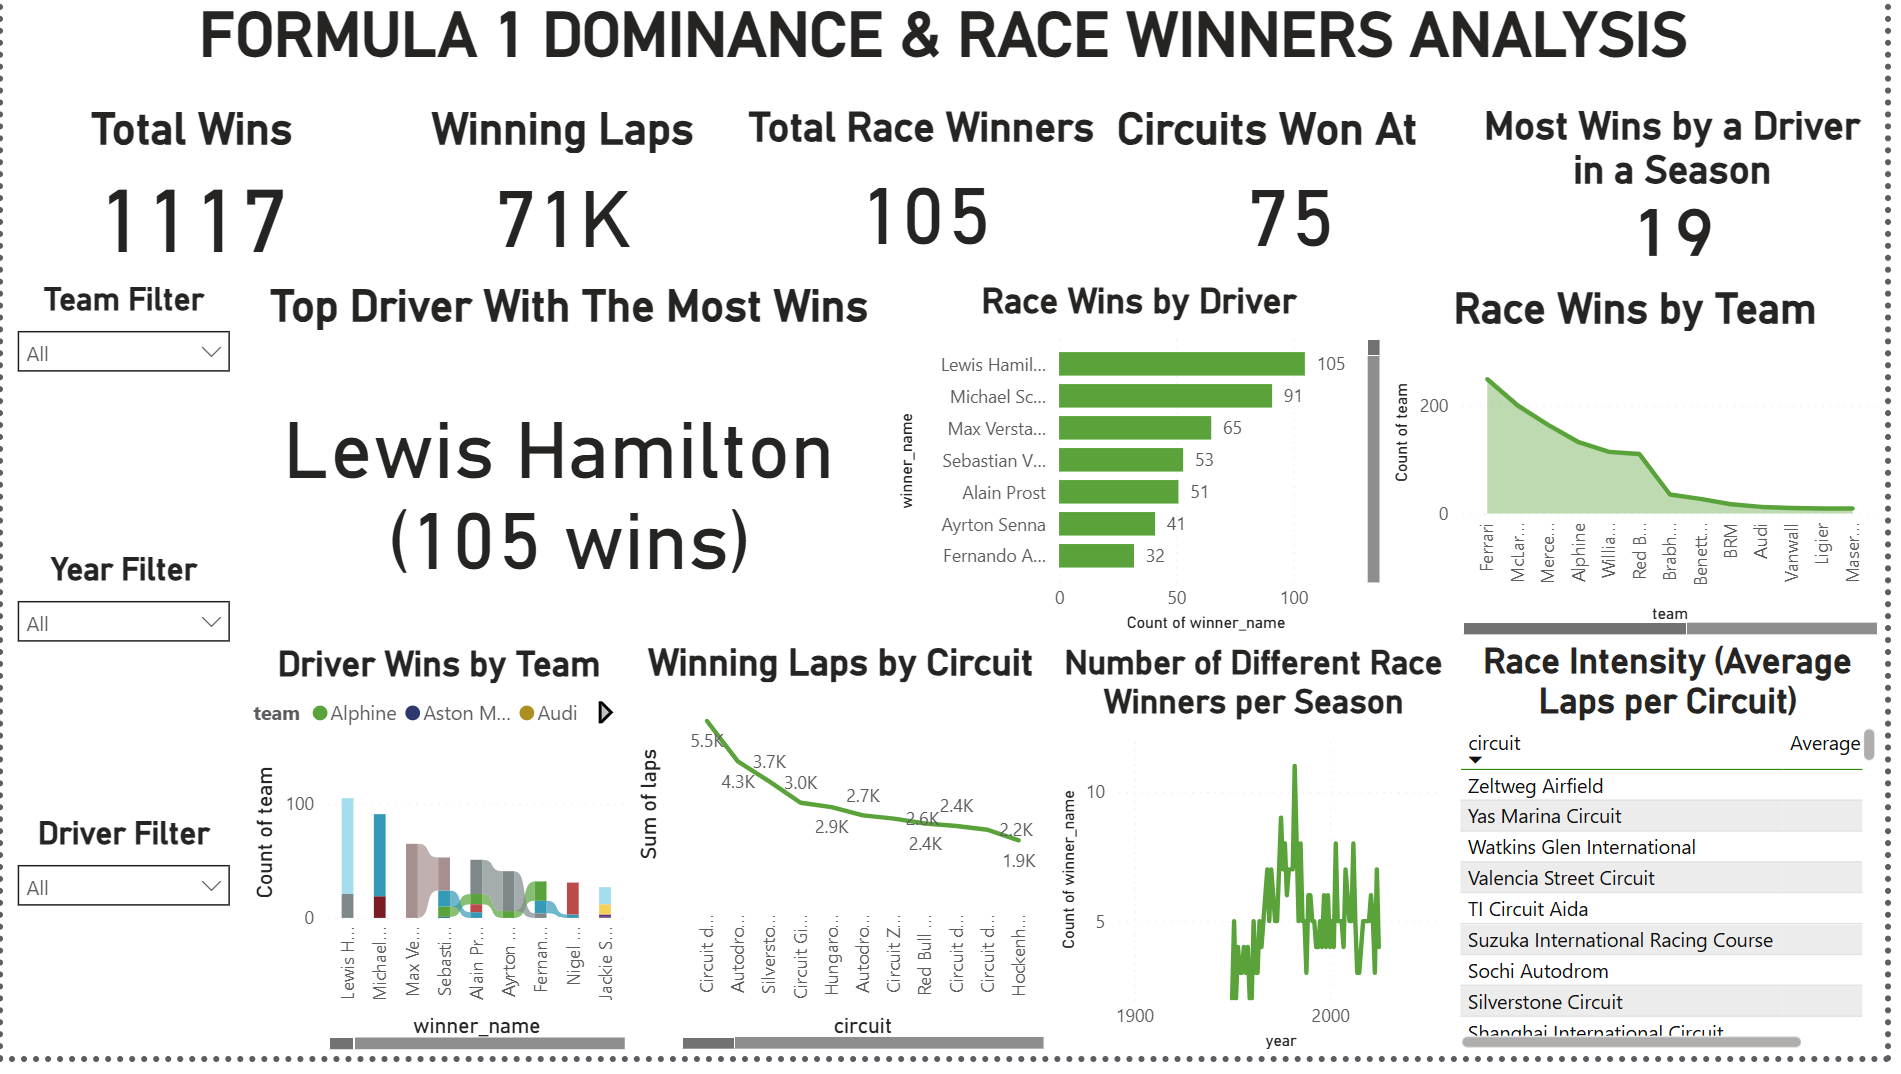

This screenshot's page, from the dashboard's own definition file:
{"tool":"powerbi","page":{"name":"Page 1","canvas":[1280,720],"ordinal":0},"visuals":[{"type":"card","title":"Total Wins","fields":{"Values":["F1 Race Winners & Circuit Analysis (1950_2025).TOTAL RACES"]},"box":[0,70.5,256.9,109.7],"z":0},{"type":"card","title":"Winning Laps","fields":{"Values":["winners_f1_1950_2025_v2.TOTAL LAPS"]},"box":[258.5,70.5,242.8,109.7],"z":1000},{"type":"card","title":"Total Race Winners","fields":{"Values":["winners_f1_1950_2025_v2.UNIQUE WINNERS"]},"box":[501.1,71.8,251.2,109],"z":2000},{"type":"card","title":"Circuits Won At","fields":{"Values":["winners_f1_1950_2025_v2.UNIQUE CIRCUITS"]},"box":[752.3,71.8,245.9,109],"z":3000},{"type":"card","title":"Top Driver With The Most Wins","fields":{"Values":["winners_f1_1950_2025_v2.TOP DRIVER WITH WINS"]},"box":[167.8,191.5,435.6,244.1],"z":4000},{"type":"clusteredBarChart","title":"Race Wins by Driver","fields":{"Category":["F1 Race Winners & Circuit Analysis (1950_2025).winner_name"],"Y":["CountNonNull(F1 Race Winners & Circuit Analysis (1950_2025).winner_name)"]},"box":[603.4,191.5,337.3,244.1],"z":5000},{"type":"lineChart","title":"Race Wins by Team","fields":{"Category":["F1 Race Winners & Circuit Analysis (1950_2025).team"],"Y":["CountNonNull(F1 Race Winners & Circuit Analysis (1950_2025).team)"]},"box":[940.7,193.2,339,244.1],"z":6000},{"type":"ribbonChart","title":"Driver Wins by Team","fields":{"Series":["F1 Race Winners & Circuit Analysis (1950_2025).team"],"Category":["F1 Race Winners & Circuit Analysis (1950_2025).winner_name"],"Y":["CountNonNull(F1 Race Winners & Circuit Analysis (1950_2025).team)"]},"box":[164.4,439,262.7,281.4],"z":7000},{"type":"lineChart","title":"Number of Different Race Winners per Season","fields":{"Category":["F1 Race Winners & Circuit Analysis (1950_2025).year"],"Y":["Count(F1 Race Winners & Circuit Analysis (1950_2025).winner_name)"]},"box":[713.6,439,272.9,281.4],"z":8000},{"type":"tableEx","title":"Race Intensity (Average Laps per Circuit)","fields":{"Values":["F1 Race Winners & Circuit Analysis (1950_2025).circuit","Avg(F1 Race Winners & Circuit Analysis (1950_2025).laps)"]},"box":[986.4,437.3,293.2,283.1],"z":9000},{"type":"slicer","title":"Year Filter","fields":{"Values":["F1 Race Winners & Circuit Analysis (1950_2025).year"]},"box":[0,374.6,164.4,171.2],"z":10000},{"type":"slicer","title":"Team Filter","fields":{"Values":["F1 Race Winners & Circuit Analysis (1950_2025).team"]},"box":[0,191.5,164.4,183.1],"z":11000},{"type":"lineChart","title":"Winning Laps by Circuit","fields":{"Category":["F1 Race Winners & Circuit Analysis (1950_2025).circuit"],"Y":["Sum(F1 Race Winners & Circuit Analysis (1950_2025).laps)"]},"box":[427.1,437.3,286.4,283.1],"z":12000},{"type":"card","title":"Most Wins by a Driver in a Season","fields":{"Values":["F1 Race Winners & Circuit Analysis (1950_2025).MOST WINS BY A DRIVER IN A SEASON"]},"box":[998.2,71.8,275.1,109],"z":13000},{"type":"slicer","title":"Driver Filter","fields":{"Values":["F1 Race Winners & Circuit Analysis (1950_2025).winner_name"]},"box":[0,554.2,164.4,166.1],"z":14000},{"type":"shape","title":"FORMULA 1 DOMINANCE & RACE WINNERS ANALYSIS","box":[0,0,1279.4,71.2],"z":15000}]}

Visuals, with their boxes in screenshot pixels (x1, y1, x2, y2), scaled from the page's 1280x720 canvas onto the 1901x1074 screenshot:
"Total Wins" card: (left=0, top=105, right=382, bottom=269)
"Winning Laps" card: (left=384, top=105, right=745, bottom=269)
"Total Race Winners" card: (left=744, top=107, right=1117, bottom=270)
"Circuits Won At" card: (left=1117, top=107, right=1482, bottom=270)
"Top Driver With The Most Wins" card: (left=249, top=286, right=896, bottom=650)
"Race Wins by Driver" clusteredBarChart: (left=896, top=286, right=1397, bottom=650)
"Race Wins by Team" lineChart: (left=1397, top=288, right=1900, bottom=652)
"Driver Wins by Team" ribbonChart: (left=244, top=655, right=634, bottom=1073)
"Number of Different Race Winners per Season" lineChart: (left=1060, top=655, right=1465, bottom=1073)
"Race Intensity (Average Laps per Circuit)" tableEx: (left=1465, top=652, right=1900, bottom=1073)
"Year Filter" slicer: (left=0, top=559, right=244, bottom=814)
"Team Filter" slicer: (left=0, top=286, right=244, bottom=559)
"Winning Laps by Circuit" lineChart: (left=634, top=652, right=1060, bottom=1073)
"Most Wins by a Driver in a Season" card: (left=1482, top=107, right=1891, bottom=270)
"Driver Filter" slicer: (left=0, top=827, right=244, bottom=1073)
"FORMULA 1 DOMINANCE & RACE WINNERS ANALYSIS" shape: (left=0, top=0, right=1900, bottom=106)
